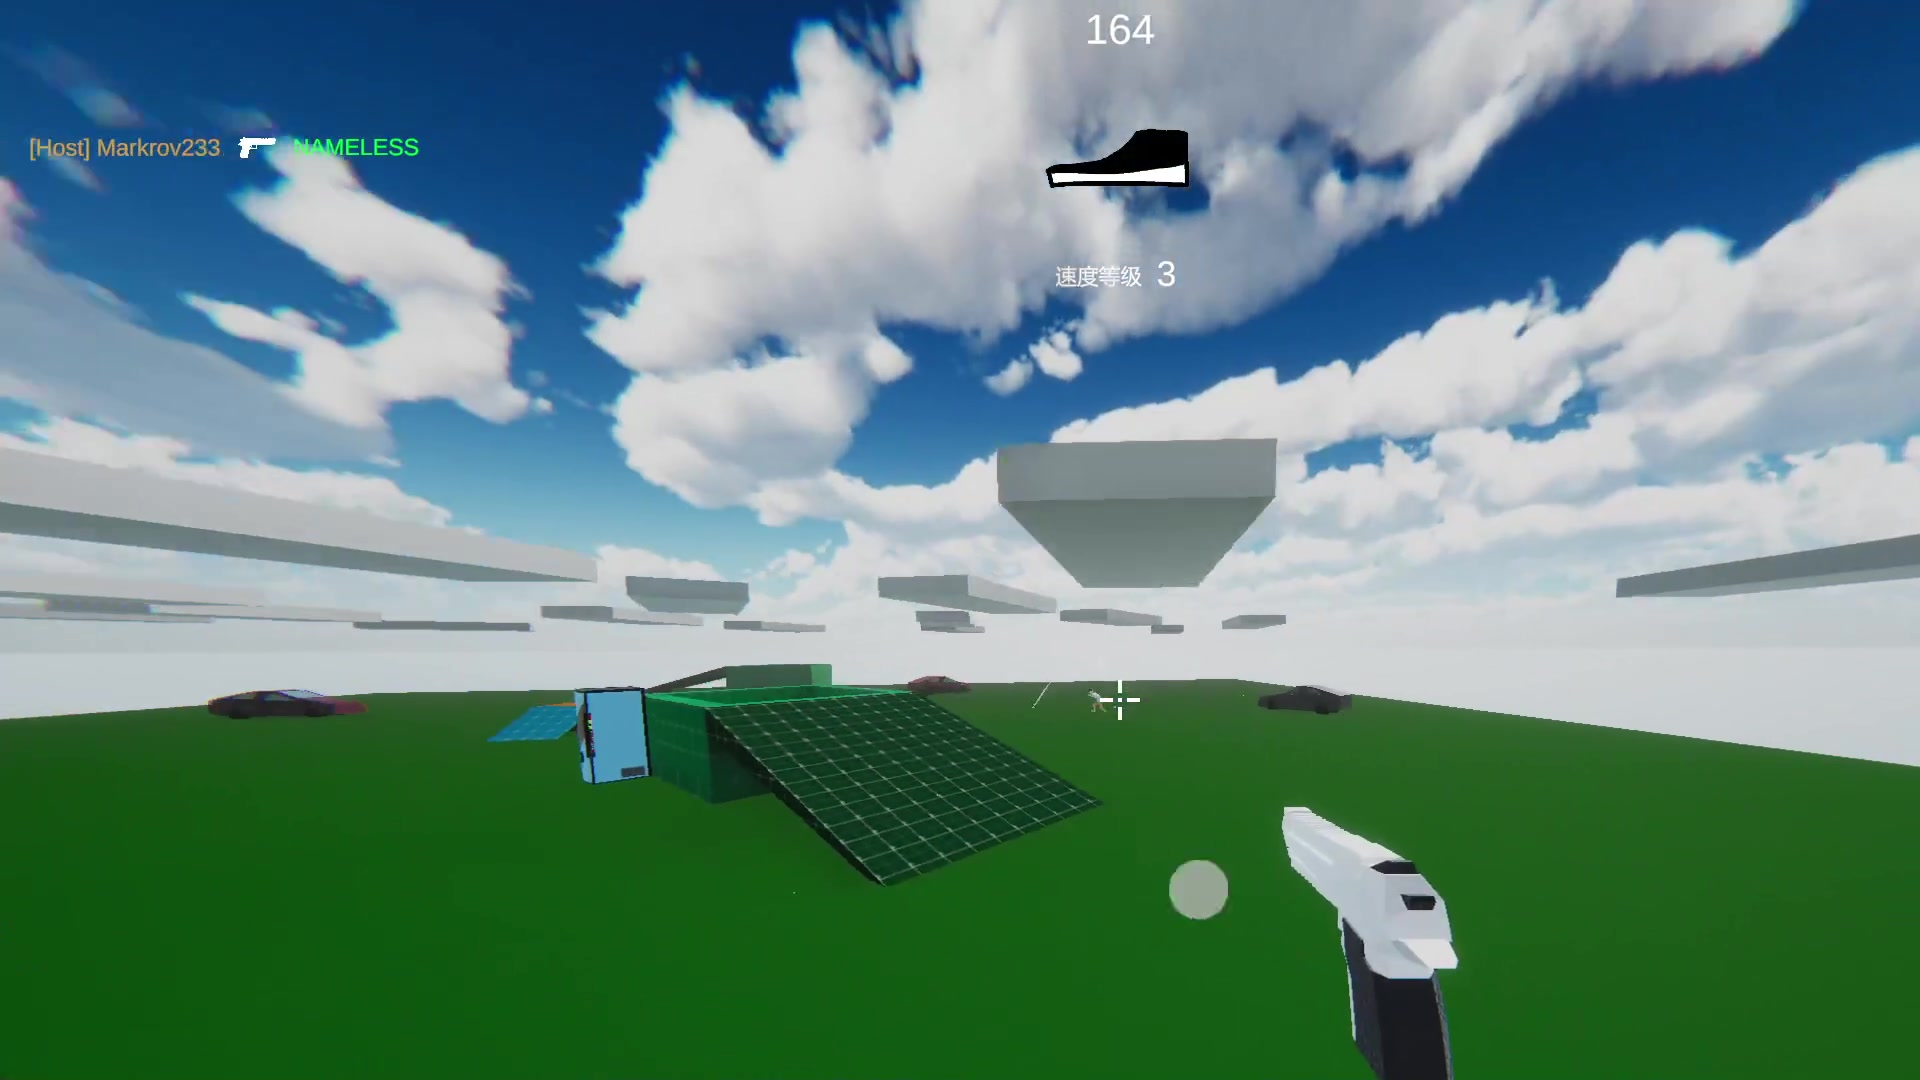human: (1093, 680, 1109, 720)
